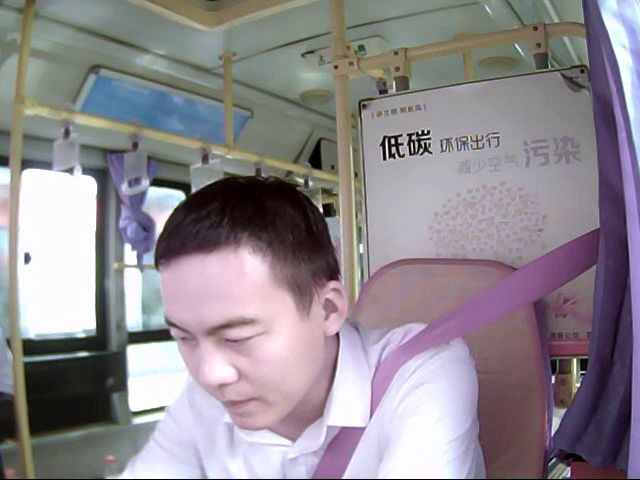closed_mouth: (216, 389, 263, 417)
